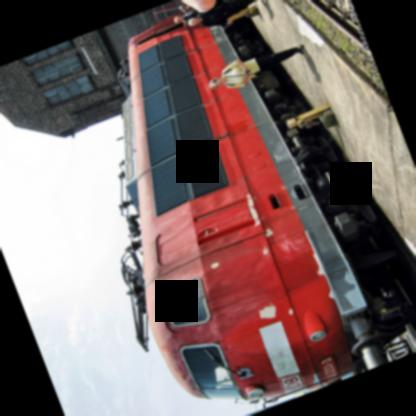backpack: (224, 75, 235, 84), (222, 67, 233, 75)
handbag: (222, 68, 272, 77)
suitcase: (321, 108, 335, 126)
